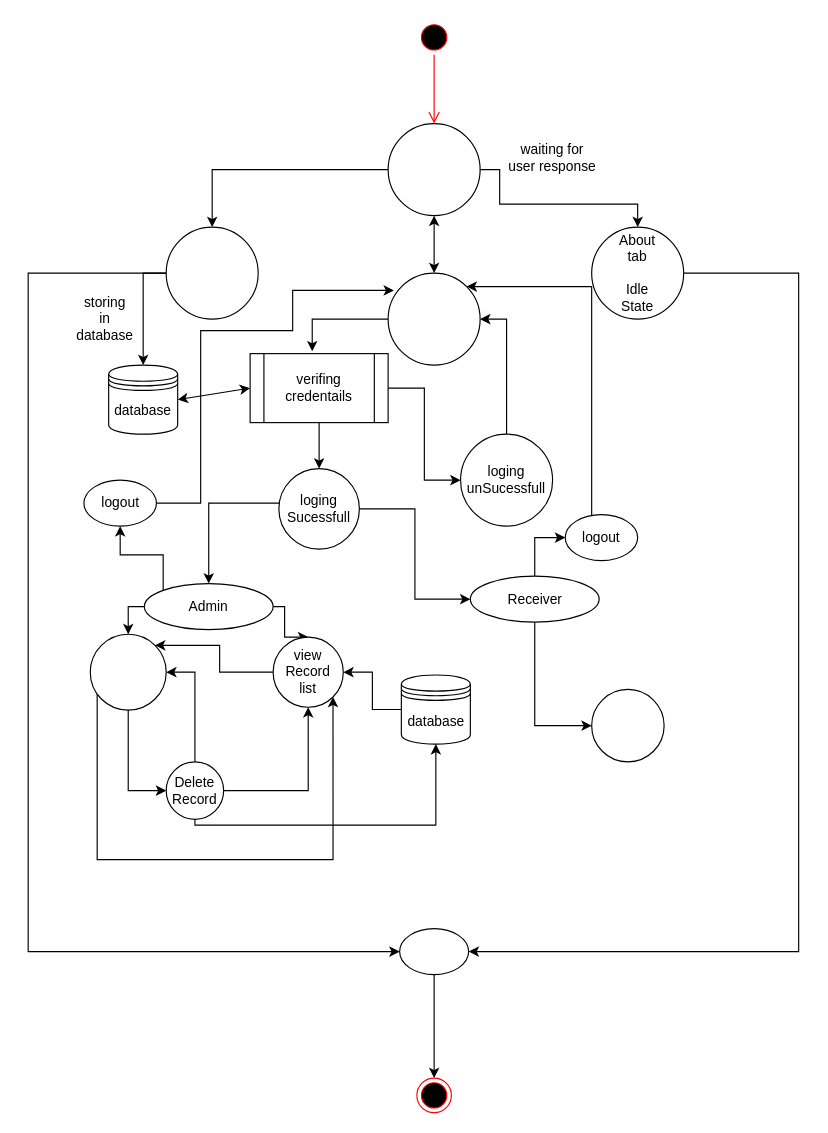
The diagram is 828 pixels wide and 1133 high, and some of its shapes have lost their labels. The shapes that lost their labels are listed below. From the top down, each one's centre as x and y in pixels, then its label:
the point at 433,169: Home page Idle state
the point at 211,272: registering Donor and Receiver
the point at 433,318: Logining into system
the point at 127,671: Searching Record
the point at 627,725: View waiting list Idle State
the point at 433,951: Exiting System
